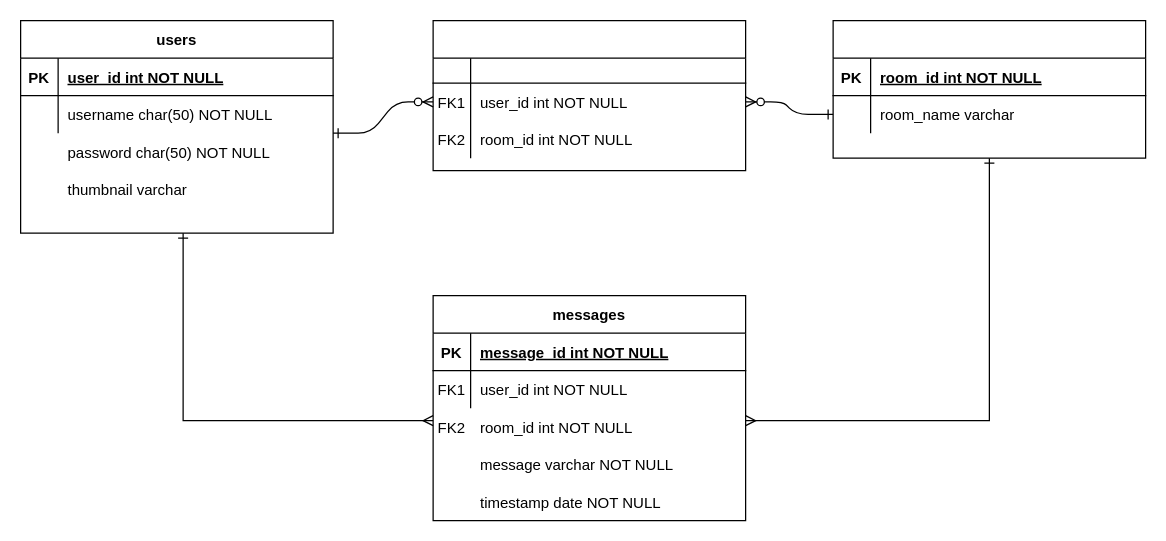
Some shapes in this 1166 by 541 pixel diagram are drawn without their labels. The shapes that lost their labels are listed below. From the top down, each one's box as (x1, y1, x2, y2) in pixels, then its label:
(432, 19, 746, 171): users_rooms
(832, 19, 1146, 158): rooms
